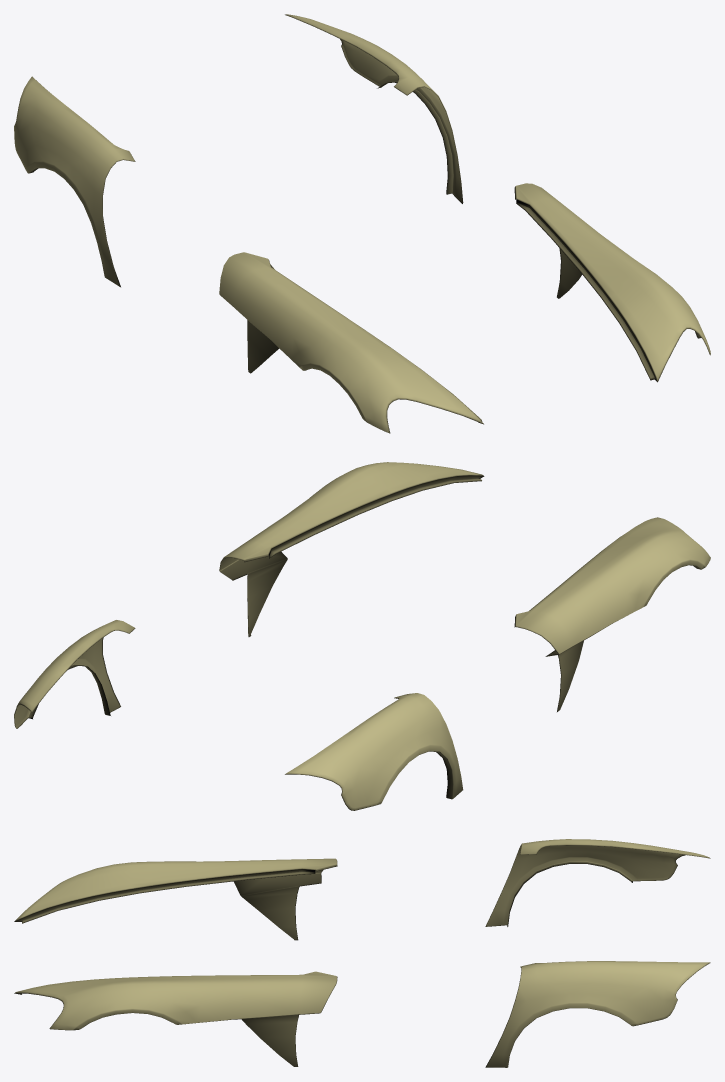
The model's file is Viper_Fender_01_Duco.fbx.
3 views of the same model, one above another, from view 1: azimuth 30°, elevation 25°; view 2: azimuth 150°, elevation 25°; view 3: azimuth 270°, elevation 25° (orthographic). The views are drawn at different scales.
Visible parts, largest first — view 1: Viper_Fender_01_Duco; view 2: Viper_Fender_01_Duco; view 3: Viper_Fender_01_Duco.
Part boxes in pixels (bbox=[...]): Viper_Fender_01_Duco: bbox=[14, 14, 710, 433]; Viper_Fender_01_Duco: bbox=[14, 462, 710, 810]; Viper_Fender_01_Duco: bbox=[14, 839, 710, 1067].
Size of the model in its own units: 193 by 62.49 by 386.
